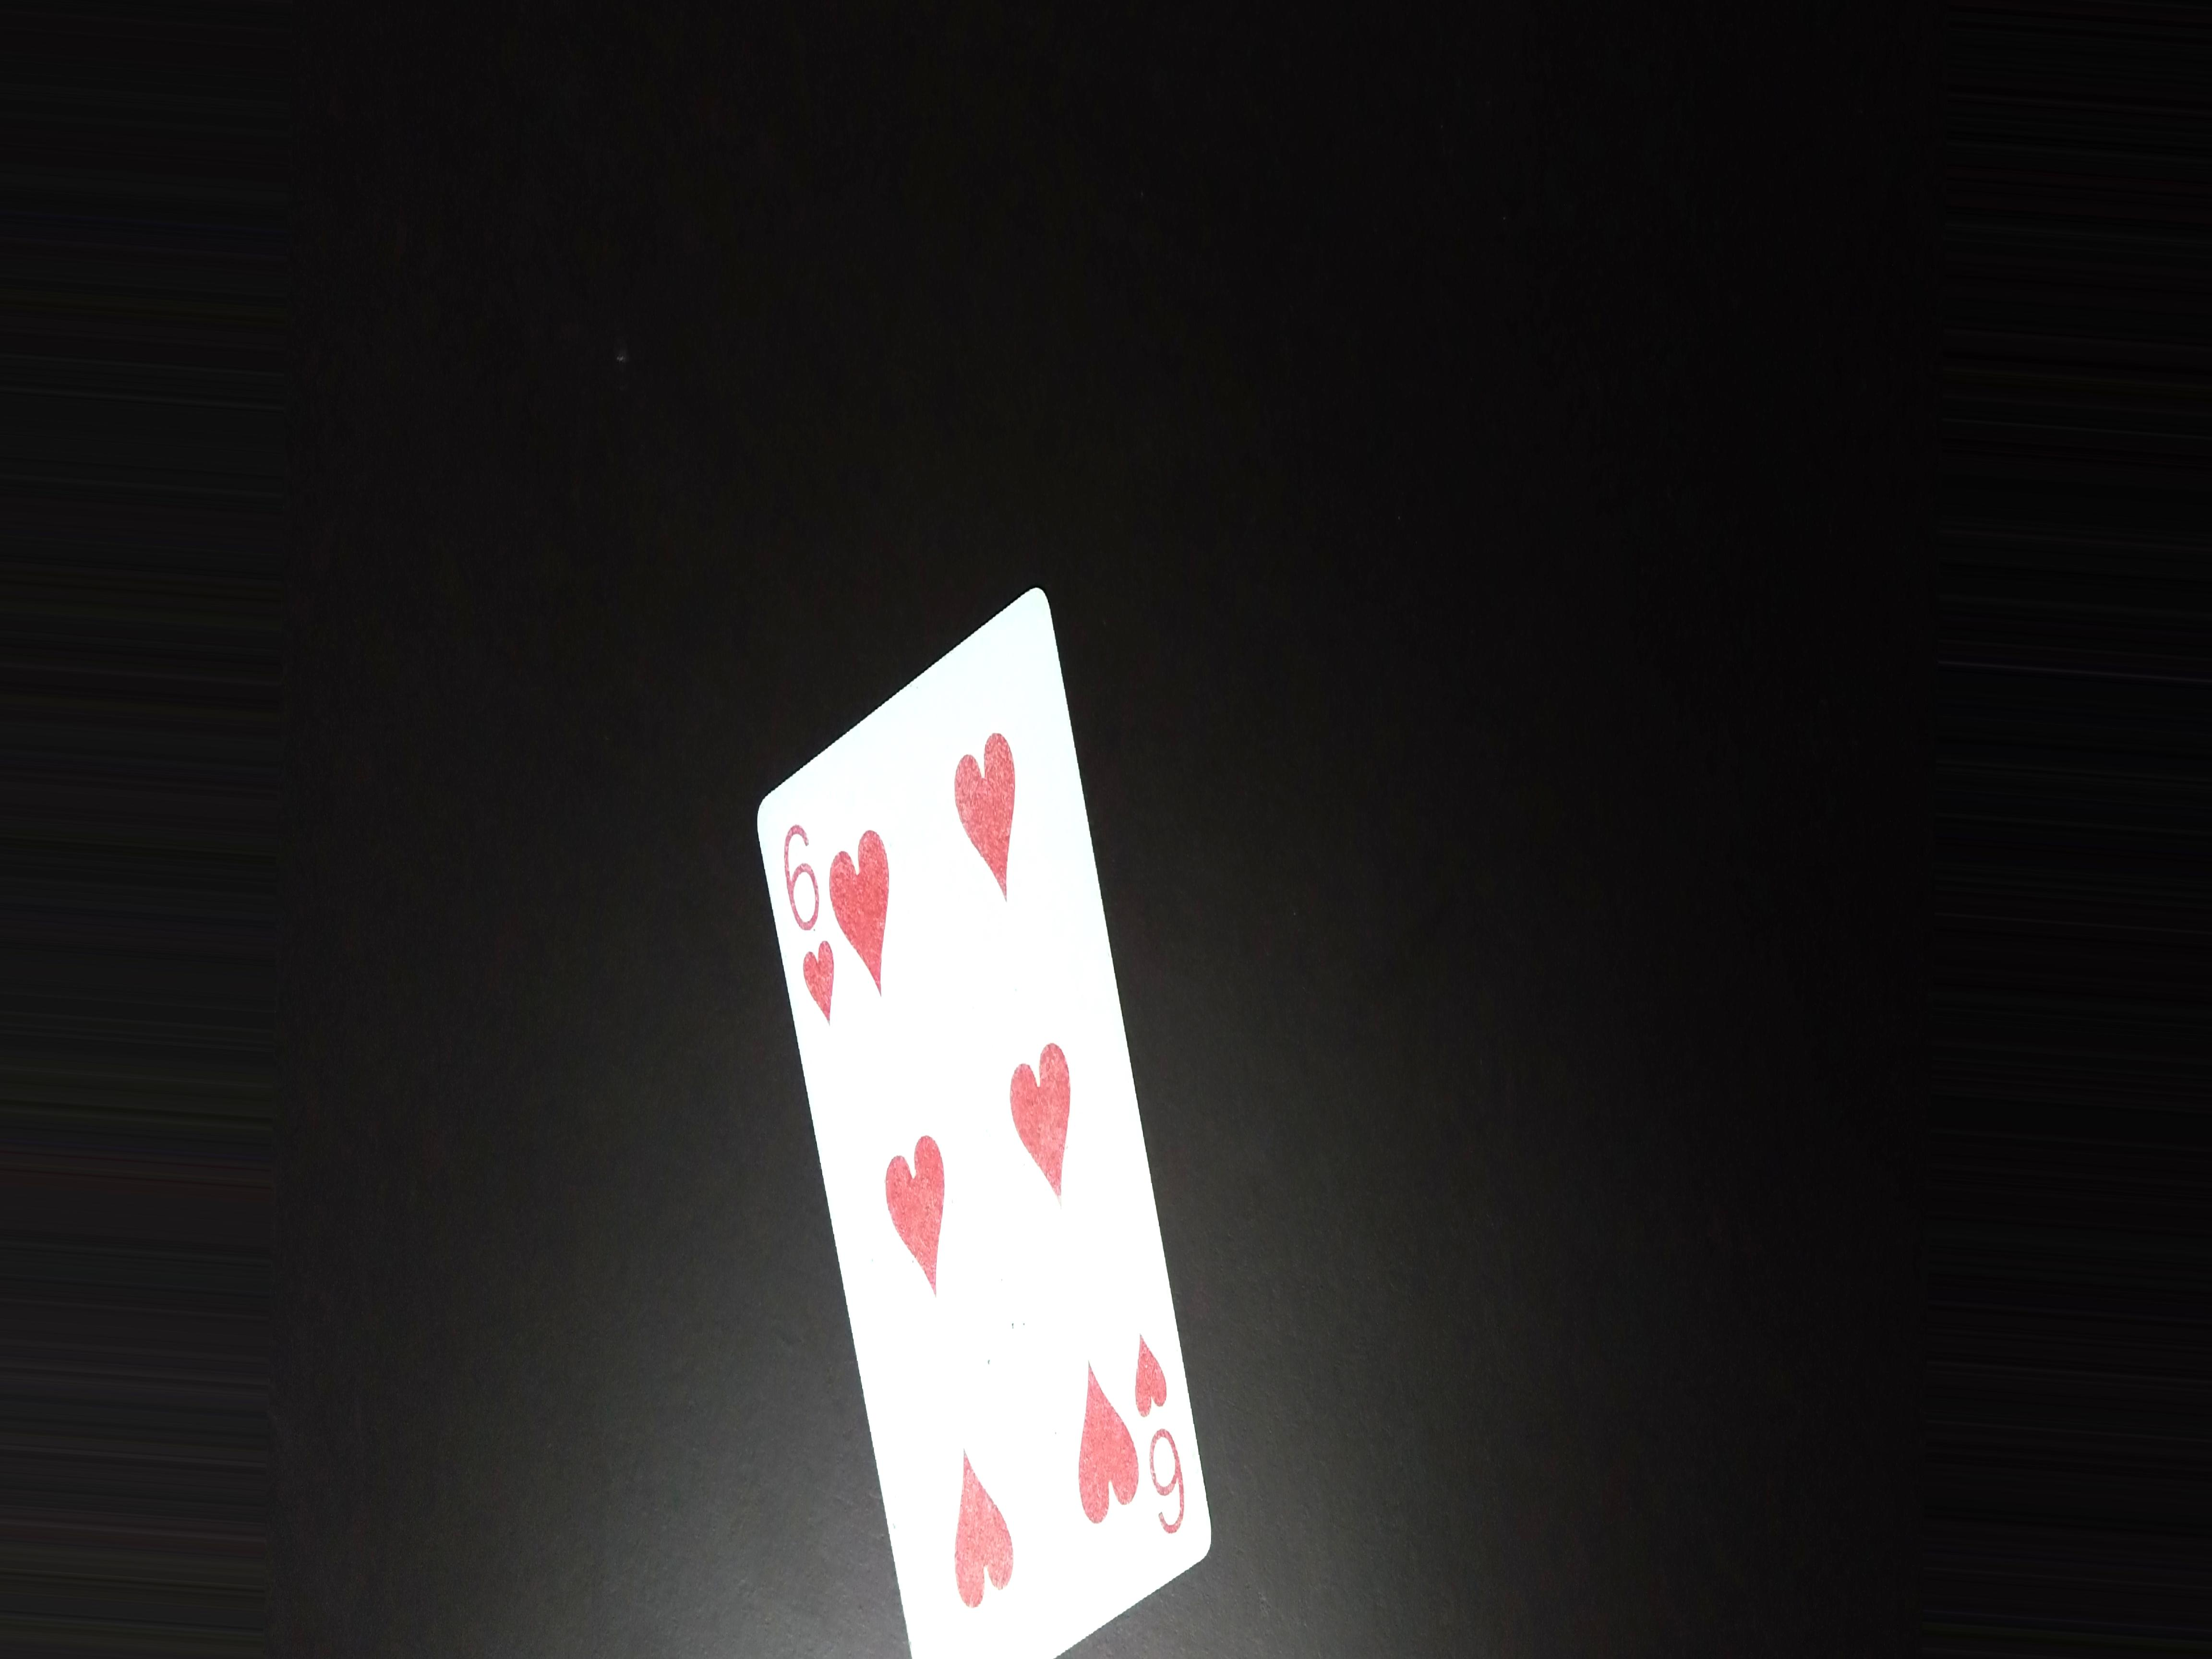6H: (772, 817, 850, 1021)
